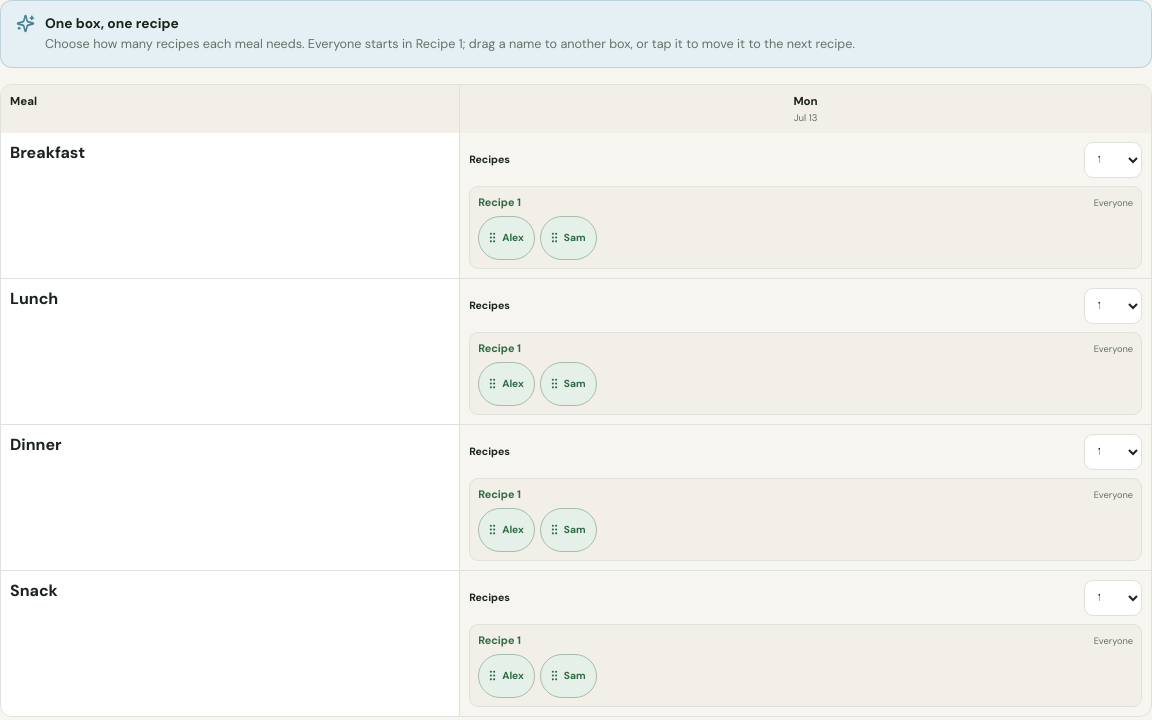
PlanPage wizard › assigns people to recipe boxes in the weekly grid
Select "2" in the dropdown labelled "Recipes" in the row of "Breakfast" at coordinates (1113, 160), box [1084, 142, 1142, 178]
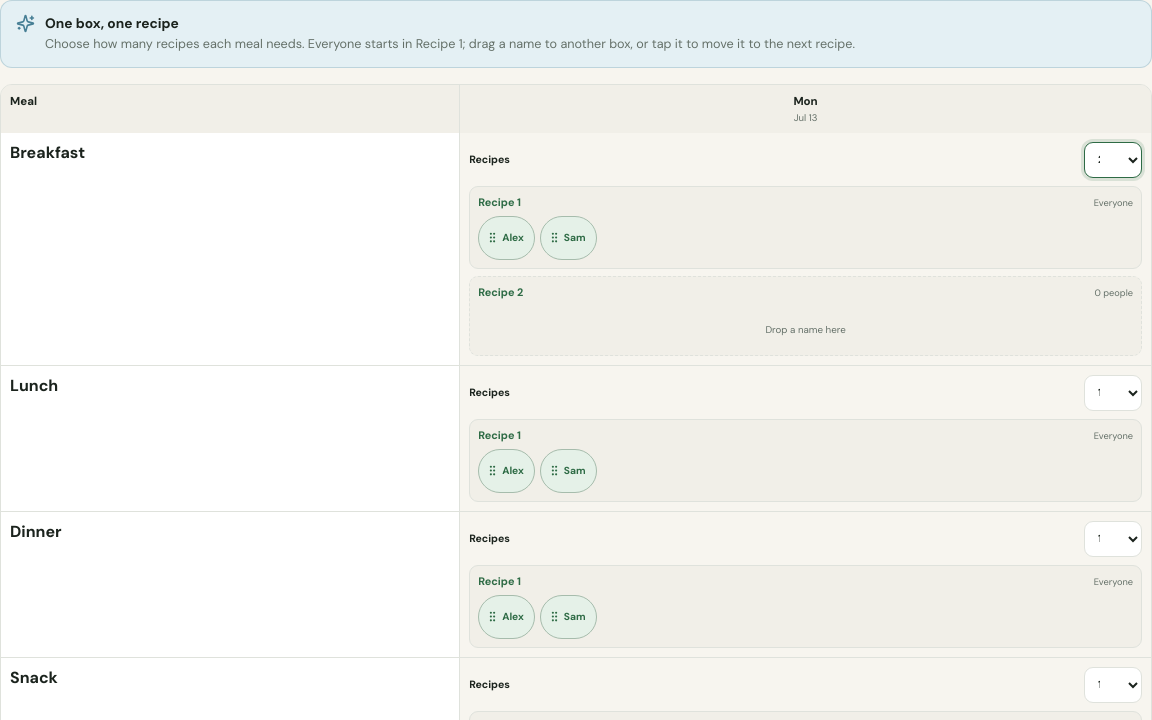
Expected: the text "Drop a name here" is shown, [765, 324, 846, 336]
Click the 1st button "Sam" at coordinates (568, 238), box [540, 216, 597, 260]
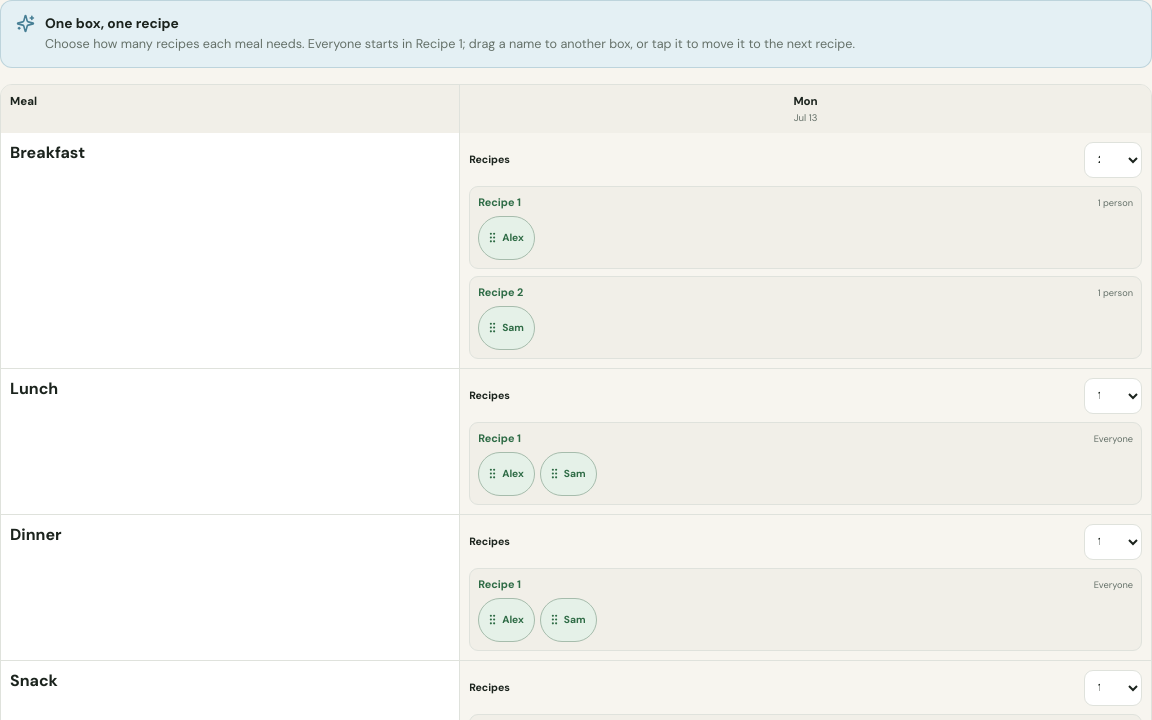
Expected: the button with aria-label "Sam assigned to recipe 2" is shown, [478, 306, 535, 350]
Expected: the 2nd text "1 person" is shown, [1098, 287, 1133, 299]
